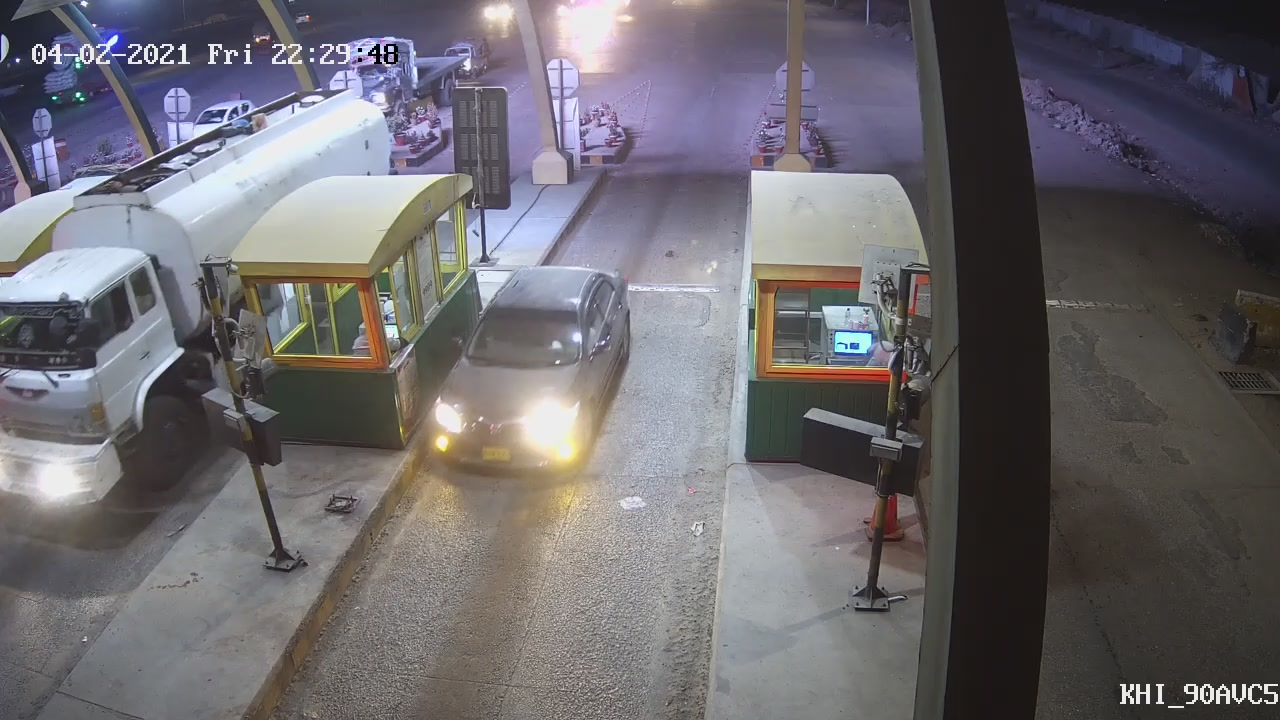F1: (417, 261, 631, 477)
